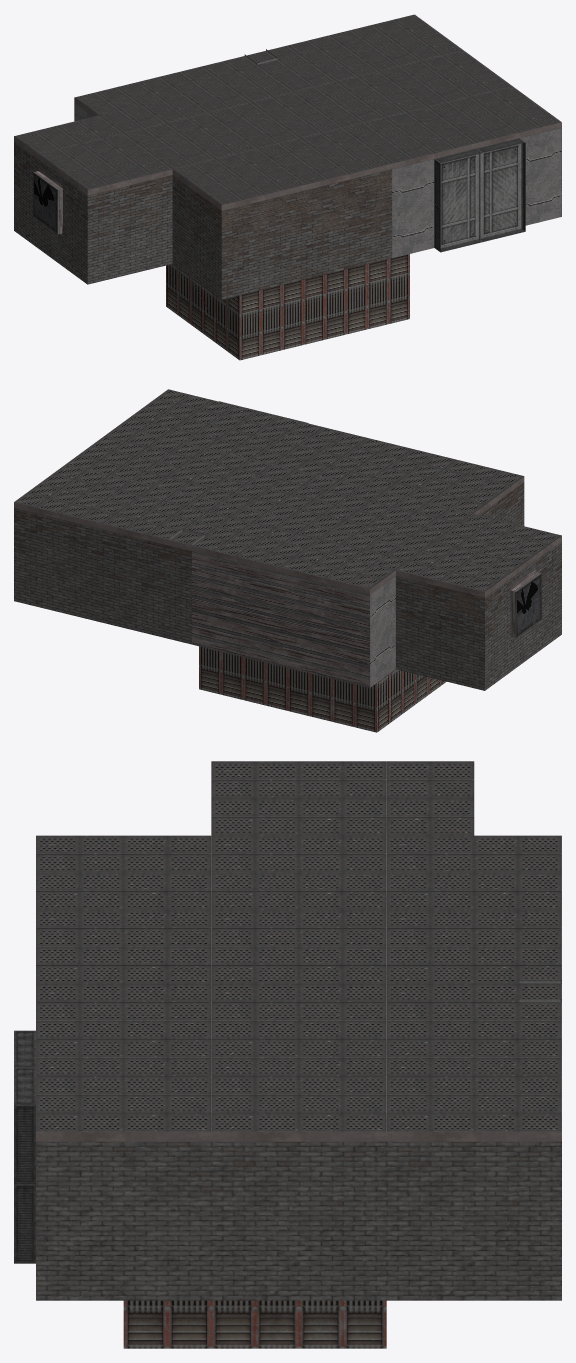
The model's file is Room_Prototype.obj.
3 views of the same model, one above another, from view 1: azimuth 30°, elevation 25°; view 2: azimuth 150°, elevation 25°; view 3: azimuth 270°, elevation 25° (orthographic). The views are drawn at different scales.
Visible parts, largest first — view 1: Default; view 2: Default; view 3: Default.
Part boxes in pixels (bbox=[...]): Default: bbox=[14, 14, 561, 360]; Default: bbox=[14, 389, 561, 732]; Default: bbox=[14, 761, 561, 1348].
Bounding box in the file's own units: 81 × 33.33 × 50.
